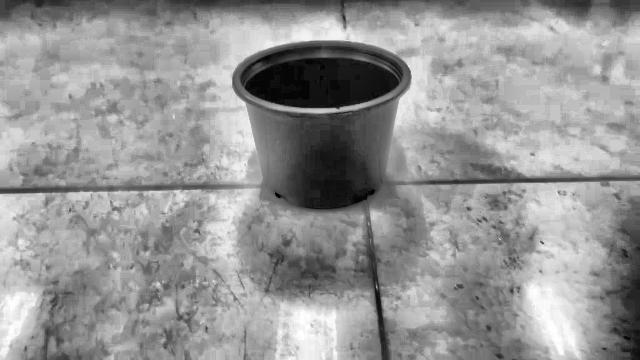pot: (232, 42, 410, 209)
